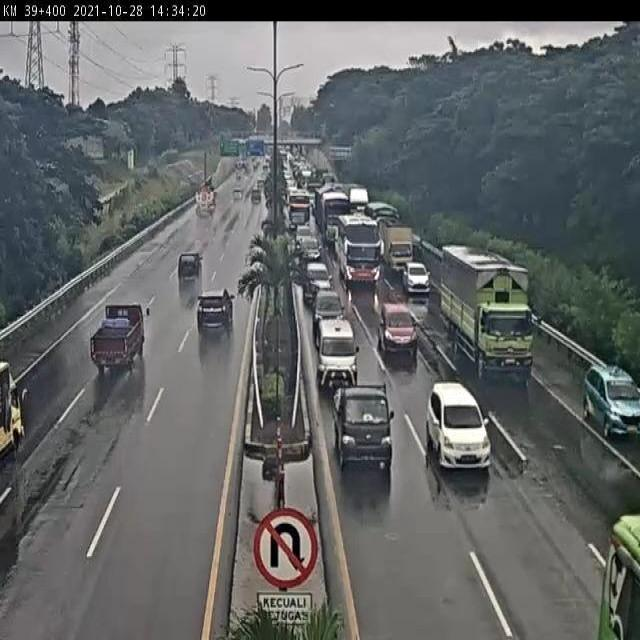big bus: (340, 215, 383, 284), (320, 190, 353, 242), (283, 195, 311, 236)
car: (422, 383, 496, 468), (329, 384, 397, 473), (581, 368, 640, 445), (314, 318, 361, 394), (375, 300, 419, 357), (197, 290, 237, 330), (316, 287, 343, 332), (403, 260, 432, 299), (305, 260, 332, 301), (178, 251, 202, 284), (297, 238, 318, 266), (292, 220, 309, 240)
small truck: (86, 302, 152, 374), (377, 214, 417, 278)
truck-l-: (438, 246, 540, 382)
